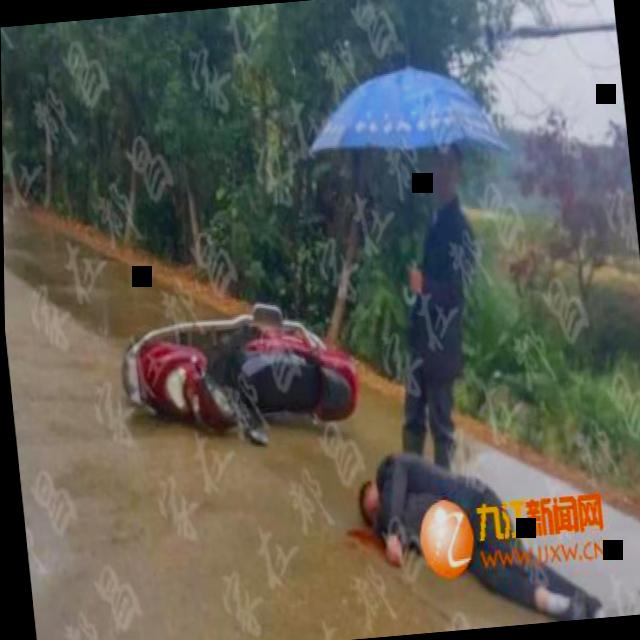Fall-Detected: (326, 424, 630, 640)
